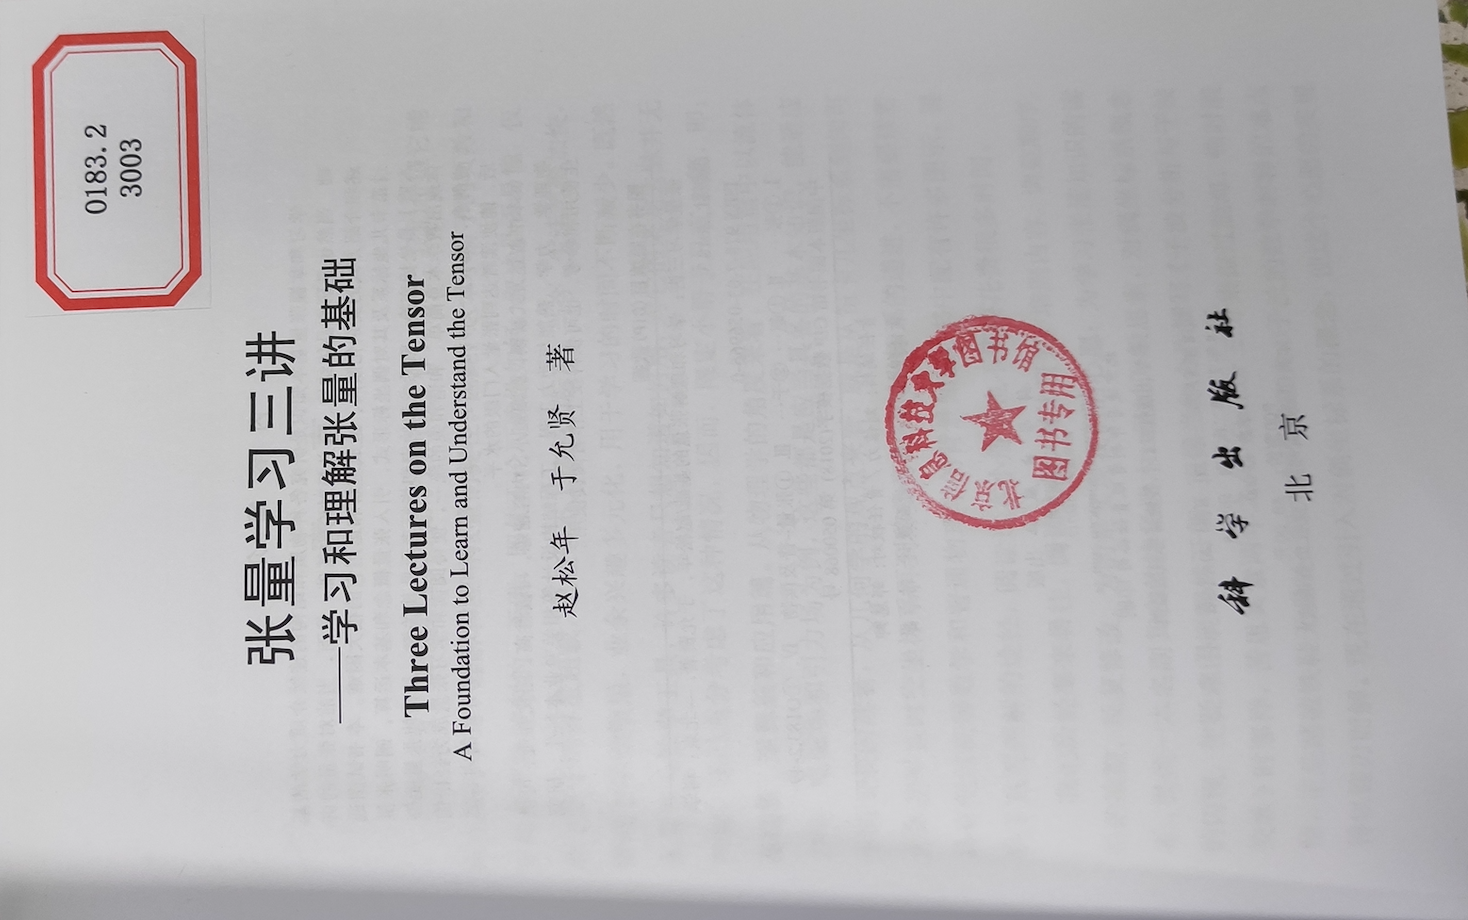Text_area: (225, 207, 620, 803), (886, 281, 1112, 554), (26, 24, 216, 324)
